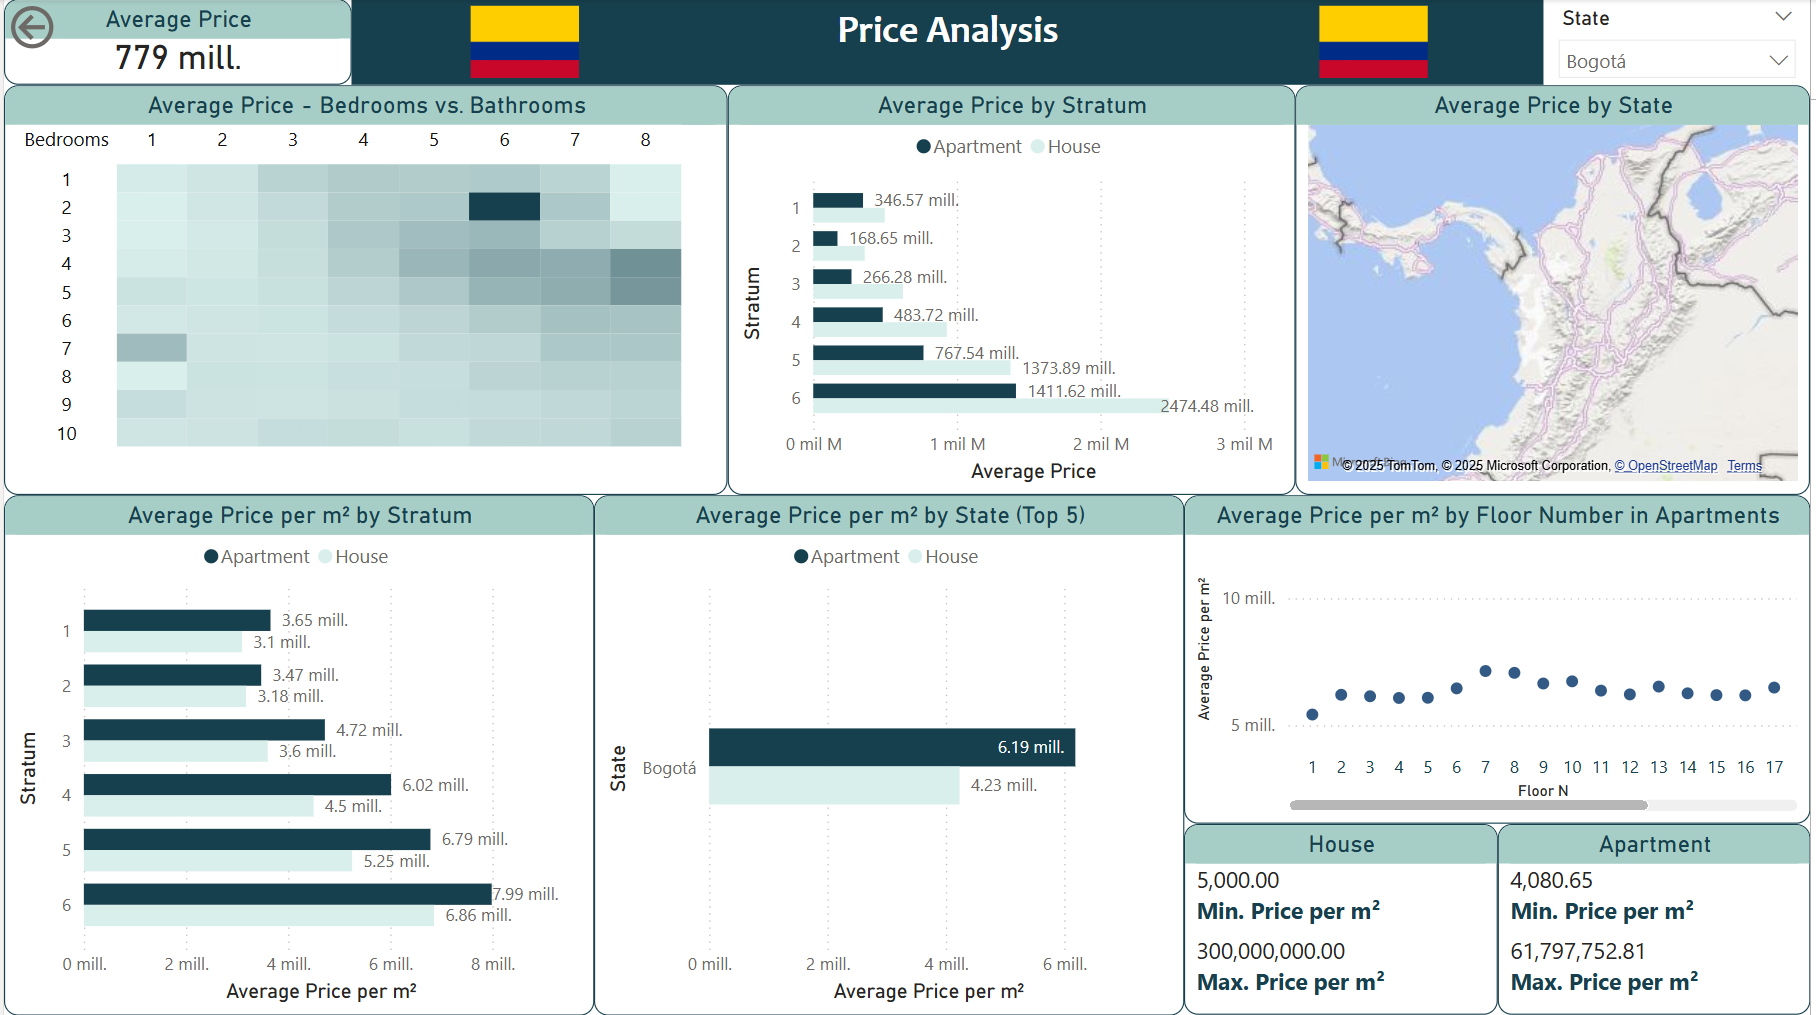

What the dashboard file says about the page in this screenshot:
{"tool":"powerbi","page":{"name":"Análisis de Precios","canvas":[1280,720],"ordinal":1},"visuals":[{"type":"slicer","fields":{"Values":["Props.Estado"]},"box":[1091.5,0,188.7,61.1],"z":0},{"type":"card","title":"Precio Promedio","fields":{"Values":["Avg(Props.Precio)"]},"box":[0,0,246.3,61.1],"z":1000},{"type":"textbox","box":[246.3,0,845.2,61.1],"z":2000},{"type":"clusteredBarChart","title":"Precio promedio por Estrato","fields":{"Category":["Props.Estrato"],"Y":["Avg(Props.Precio)"],"Series":["Props.Tipo Propiedad"]},"box":[513,61.1,402.2,290.6],"z":3000},{"type":"image","box":[901.9,0,137.3,61.1],"z":4000},{"type":"image","box":[300.3,0,137.3,61.1],"z":5000},{"type":"filledMap","title":"Precio Promedio por Estado","fields":{"Category":["Props.Estado"]},"box":[915.2,61.1,365,290.6],"z":6000},{"type":"actionButton","box":[0,0,100,40],"z":7000},{"type":"multiRowCard","title":"Casa","fields":{"Values":["Min(Props.Precio m2)","Max(Props.Precio m2)1"]},"box":[836.3,584.7,222.4,135.5],"z":8000},{"type":"clusteredBarChart","title":"Precio promedio por m² por Estrato","fields":{"Category":["Props.Estrato"],"Y":["Avg(Props.Precio m2)"],"Series":["Props.Tipo Propiedad"]},"box":[0,351.7,418.2,368.6],"z":9000},{"type":"clusteredBarChart","title":"Precio promedio por m² por Estado (Top 5)","fields":{"Category":["Props.Estado"],"Y":["Avg(Props.Precio m2)"],"Series":["Props.Tipo Propiedad"]},"box":[418.2,351.7,418.2,368.6],"z":10000},{"type":"scatterChart","title":"Precio promedio por m² por n° piso en Aptos","fields":{"Series":["Props.Tipo Propiedad"],"Y":["Avg(Props.Precio m2)"],"X":["Props.Piso N"]},"box":[836.3,351.7,443.9,233],"z":11000},{"type":"multiRowCard","title":"Apartamento","fields":{"Values":["Min(Props.Precio m2)","Max(Props.Precio m2)1"]},"box":[1058.7,584.7,221.5,135.5],"z":12000},{"type":"pivotTable","title":"Precio promedio - Habitaciones vs Baños","fields":{"Columns":["Props.Banos"],"Rows":["Props.Habitaciones"],"Values":["Avg(Props.Precio)"]},"box":[0,61.1,513,290.6],"z":13000}]}

Visuals, with their boxes in screenshot pixels (x1, y1, x2, y2), scaled from the page's 1280x720 canvas onto the 1816x1015 screenshot:
slicer - Props.Estado: (1549,0,1815,86)
"Precio Promedio" card: (0,0,349,86)
textbox: (349,0,1549,86)
"Precio promedio por Estrato" clusteredBarChart: (728,86,1298,496)
image: (1280,0,1474,86)
image: (426,0,621,86)
"Precio Promedio por Estado" filledMap: (1298,86,1815,496)
actionButton: (0,0,142,56)
"Casa" multiRowCard: (1187,824,1502,1014)
"Precio promedio por m² por Estrato" clusteredBarChart: (0,496,593,1014)
"Precio promedio por m² por Estado (Top 5)" clusteredBarChart: (593,496,1187,1014)
"Precio promedio por m² por n° piso en Aptos" scatterChart: (1187,496,1815,824)
"Apartamento" multiRowCard: (1502,824,1815,1014)
"Precio promedio - Habitaciones vs Baños" pivotTable: (0,86,728,496)
